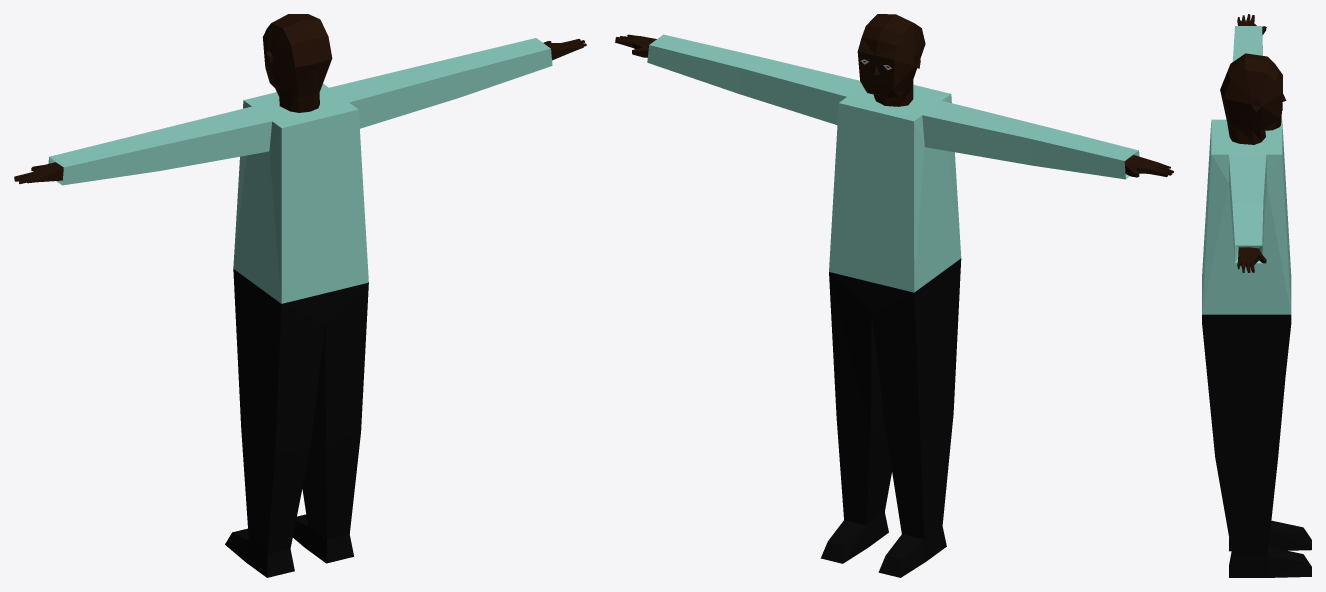
Rendered from character.obj.
3 renders of one model, left to right at view 1: azimuth 30°, elevation 25°; view 2: azimuth 150°, elevation 25°; view 3: azimuth 270°, elevation 25°, orthographic. The views are drawn at different scales.
Parts seen in each view (by area): view 1: man_Cube.001; view 2: man_Cube.001; view 3: man_Cube.001.
Part boxes in pixels (x1,y1,x2,y2): man_Cube.001: [14, 14, 586, 577]; man_Cube.001: [615, 14, 1173, 577]; man_Cube.001: [1202, 14, 1311, 577].
Size of the model in its own units: 9.45 by 8.58 by 1.71.
